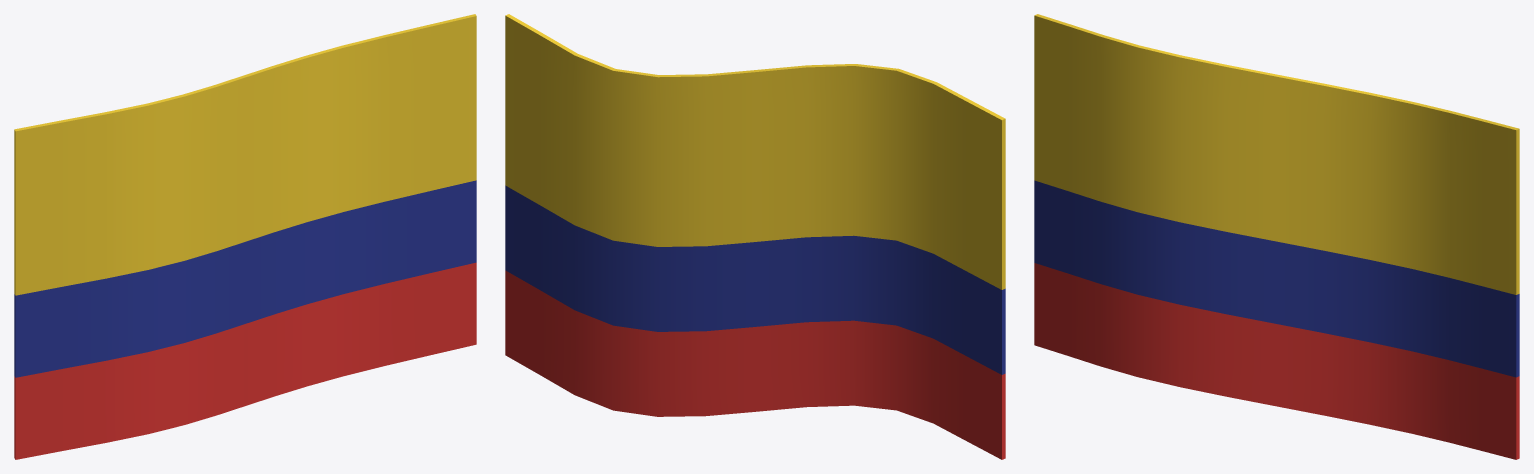
File: flag_colombia.gltf
3 renders of one model, left to right at view 1: azimuth 30°, elevation 25°; view 2: azimuth 150°, elevation 25°; view 3: azimuth 330°, elevation 25°, orthographic. The views are drawn at different scales.
Parts seen in each view (by area): view 1: Plane.420; view 2: Plane.420; view 3: Plane.420.
Boxes of the visible parts, x1,y1,x2,y2 form: Plane.420: (14, 14, 476, 459); Plane.420: (505, 14, 1005, 459); Plane.420: (1034, 14, 1519, 459).
Size of the model in its own units: 2.18 by 1.58 by 0.3373.
Materials: 1 (1 with a texture image).
